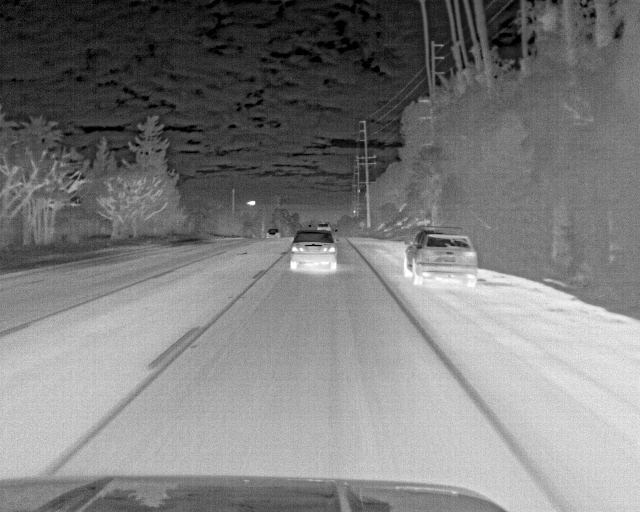vehicle: (405, 229, 479, 285), (291, 226, 340, 275)
